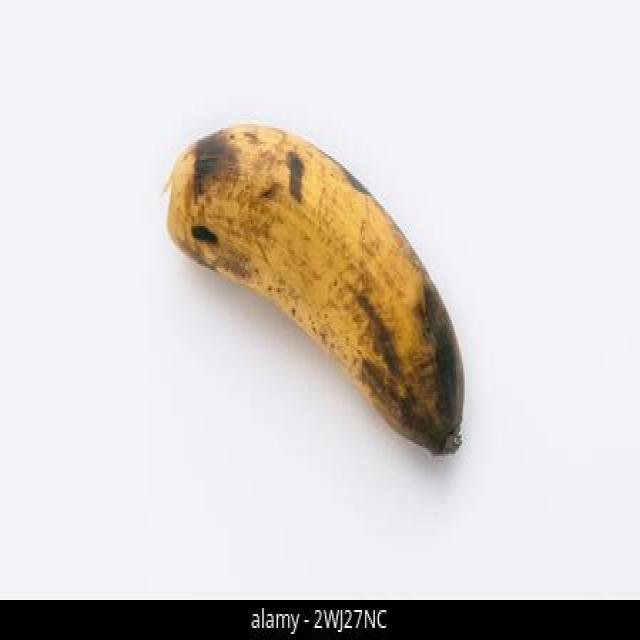overripe: (164, 116, 470, 462)
